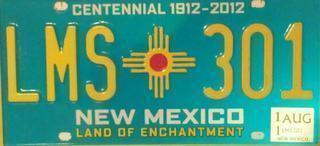placa de veiculo: (1, 1, 313, 146)
